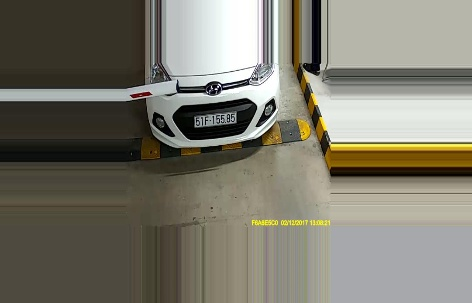plate: (192, 110, 242, 130)
